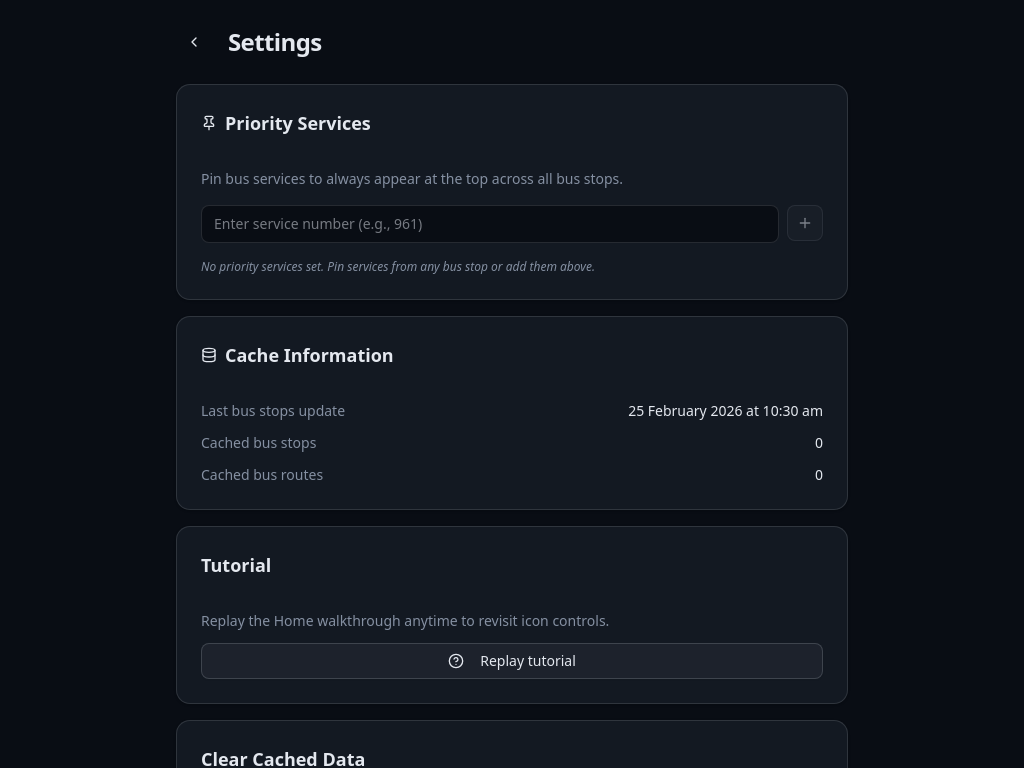
Scenario: Root Route › Tutorial replay and route guard › reopens from Settings replay button
Expected: the heading "Settings" is shown, [228,26,322,58]
Click the button "Replay tutorial" at (512, 661), box [201,643,823,679]
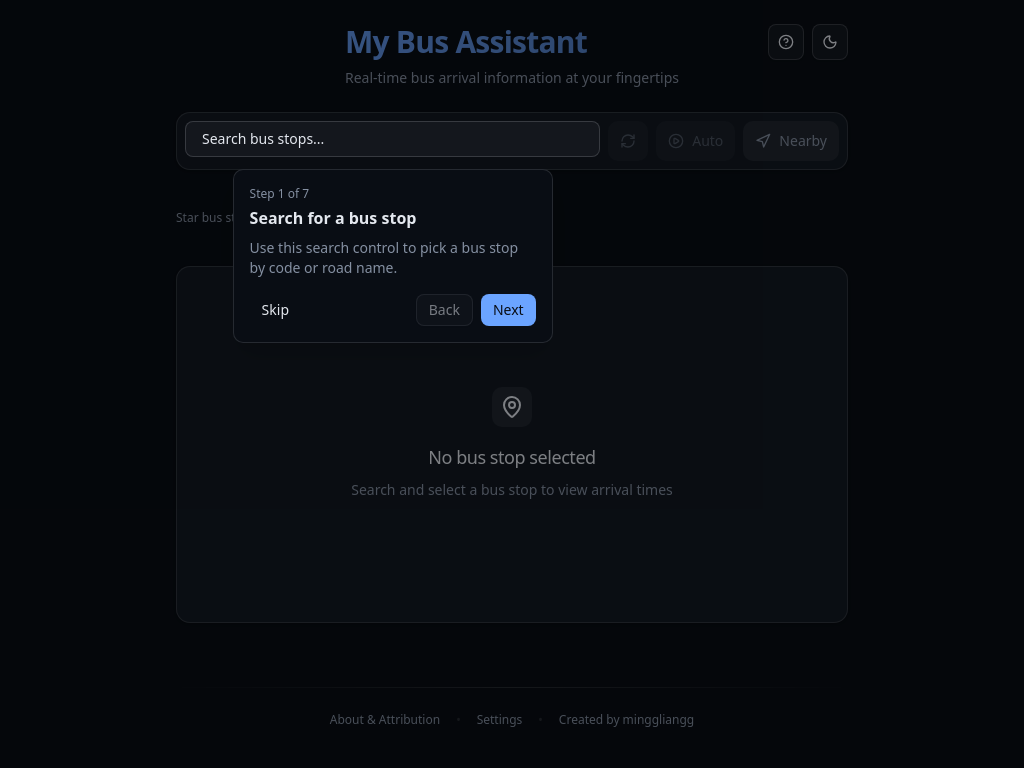
Expected: the heading "My Bus Assistant" is shown, [176,24,756,60]
Expected: the dialog named "Home tutorial" is shown
